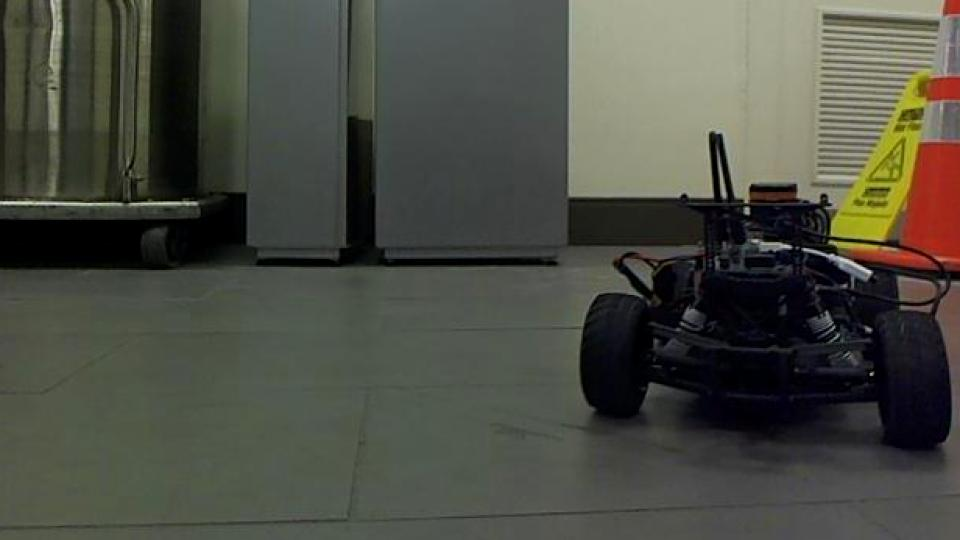car: (577, 128, 957, 451)
